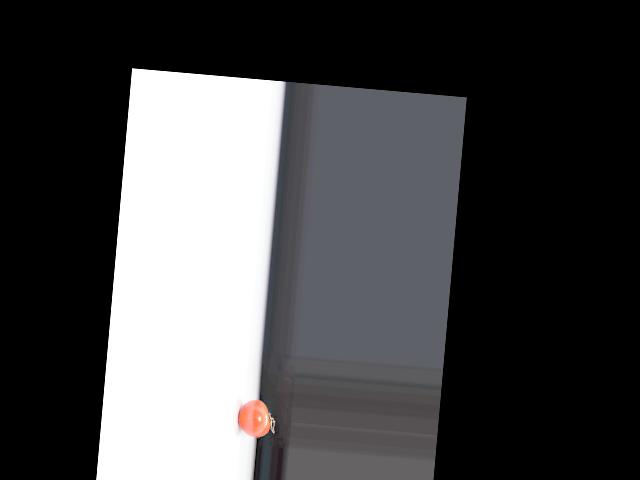tomato: (236, 397, 272, 438)
